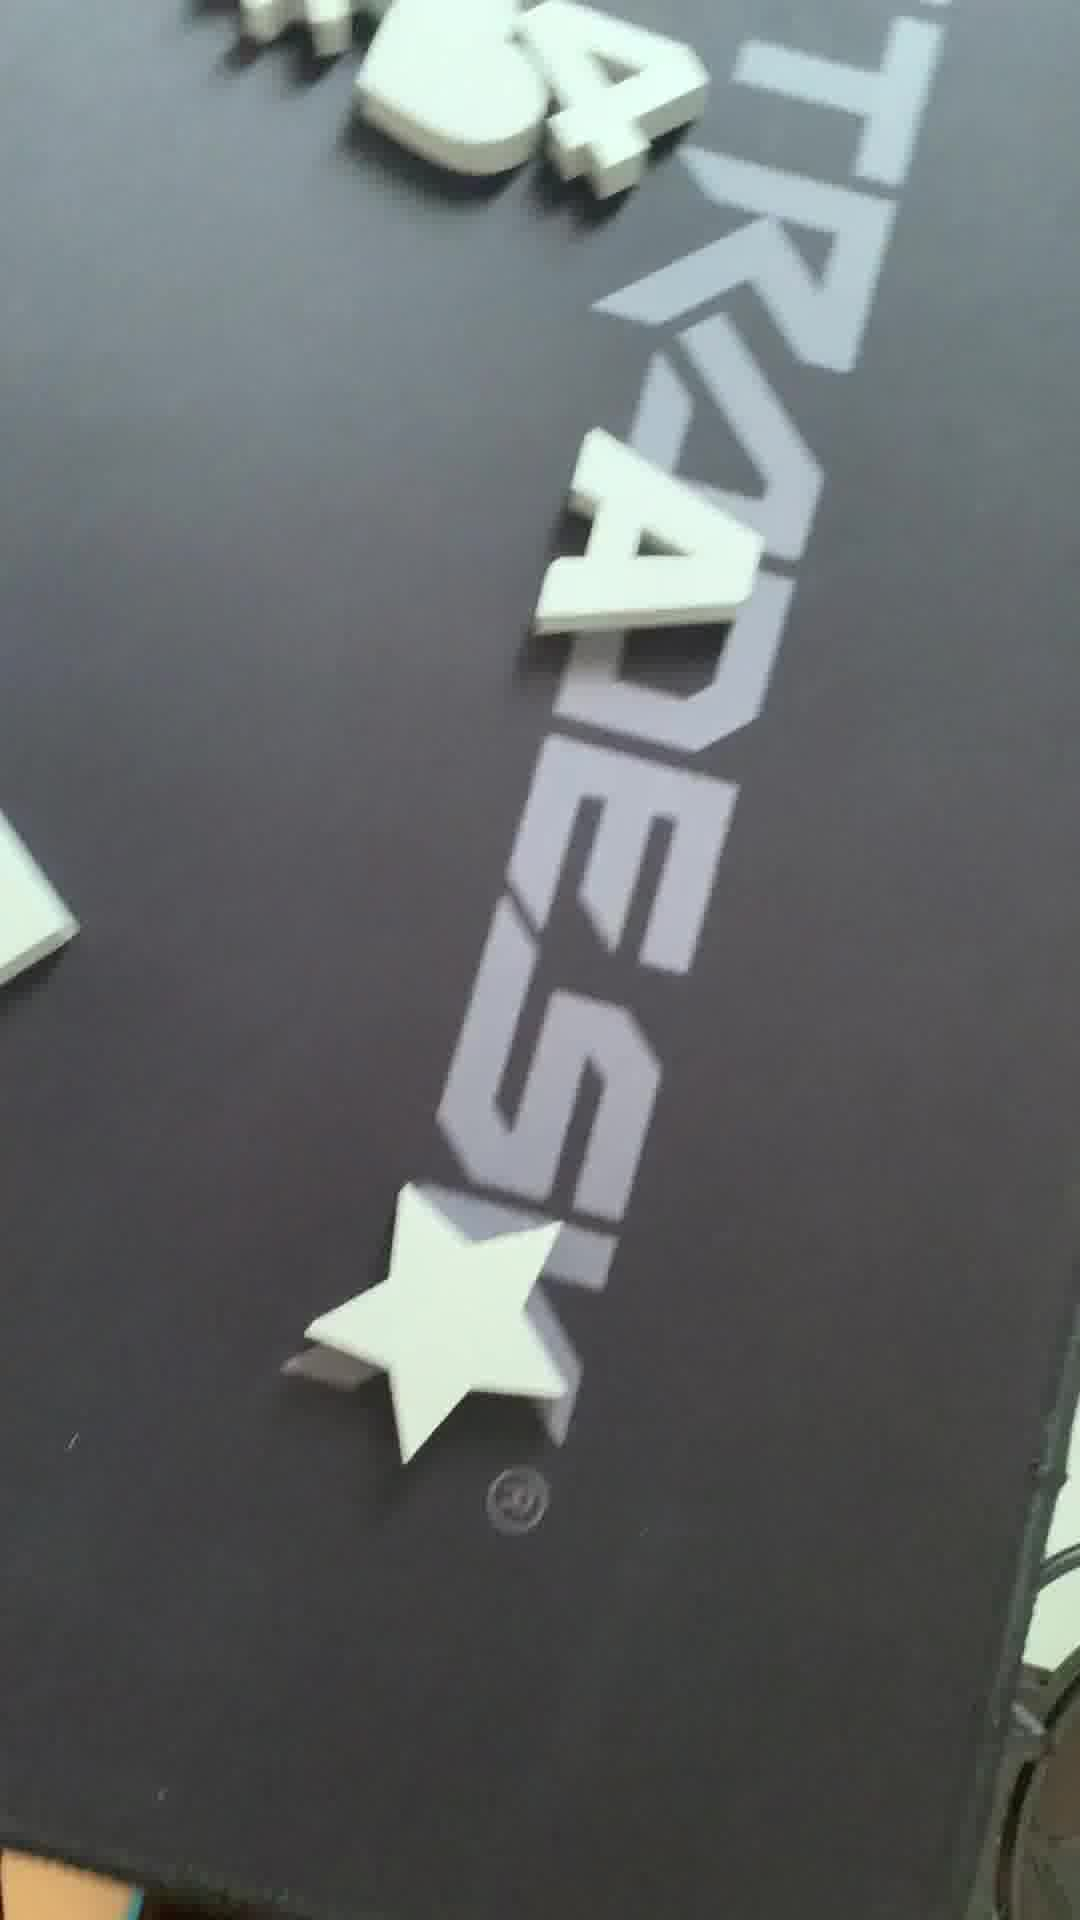Gray A-letter: (517, 419, 778, 659)
Gray four: (535, 1, 709, 199)
Gray heart: (353, 1, 568, 177)
Gray star: (309, 1187, 589, 1453)
